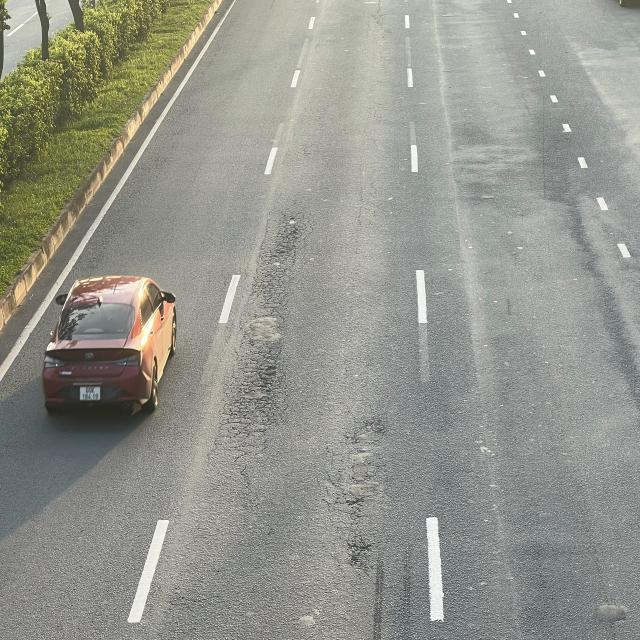car: (44, 275, 182, 419)
